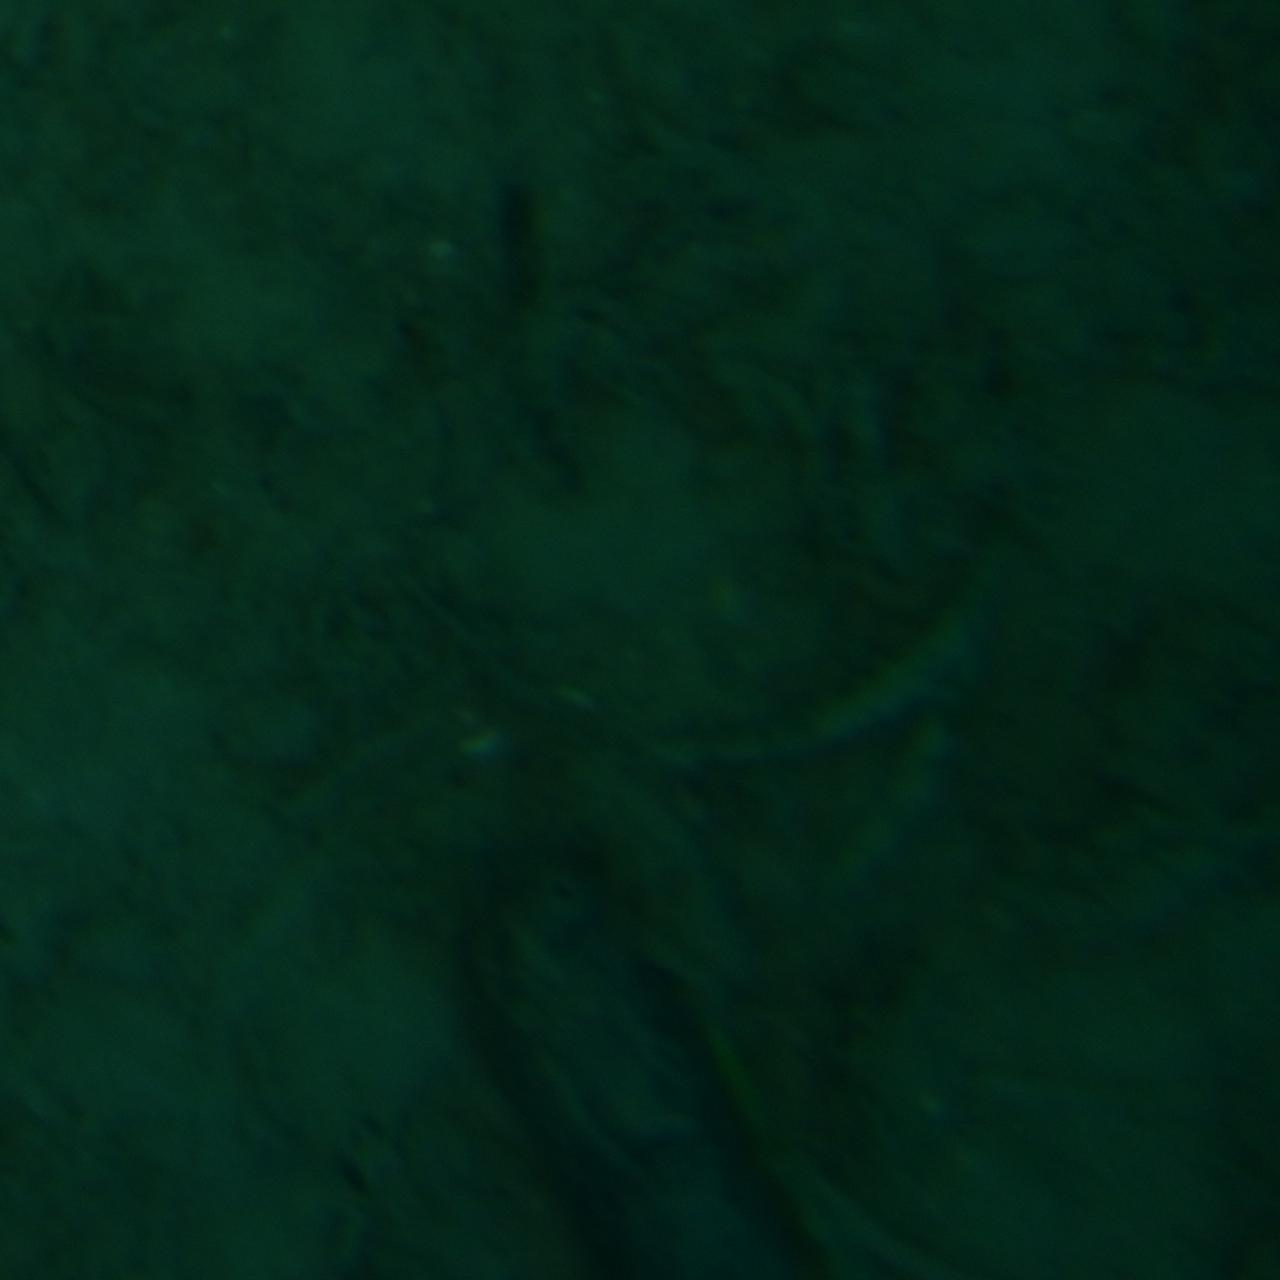Holothuria tubulosa: (449, 871, 831, 1279)
